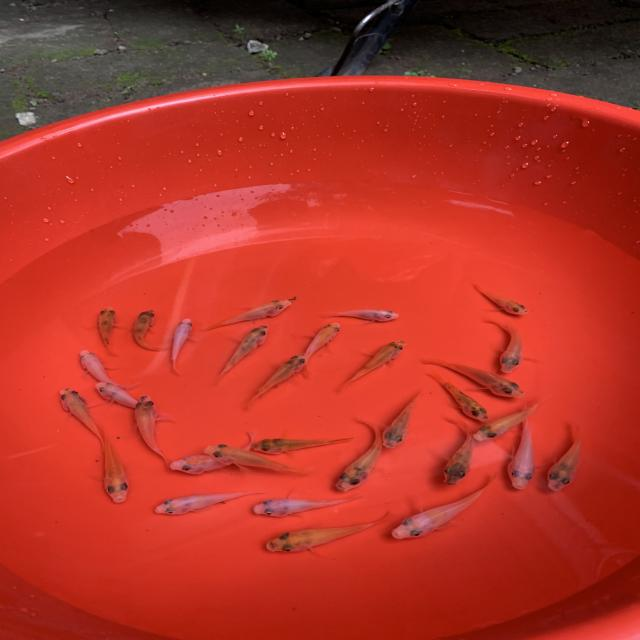nila: (384, 468, 504, 542), (251, 510, 403, 558), (407, 350, 532, 399), (200, 437, 318, 481), (130, 484, 250, 526), (201, 325, 272, 390), (416, 366, 491, 426), (330, 335, 407, 393), (335, 411, 387, 494), (471, 393, 548, 448), (540, 421, 592, 502), (249, 488, 380, 520), (69, 342, 145, 397), (83, 375, 174, 419), (49, 382, 109, 448), (93, 418, 136, 509), (199, 296, 296, 335), (243, 351, 309, 408), (130, 392, 182, 464), (437, 414, 482, 496), (479, 313, 537, 375), (380, 384, 427, 454), (248, 430, 377, 455), (290, 321, 341, 381), (508, 398, 537, 498), (158, 447, 251, 477), (468, 278, 535, 319), (318, 302, 404, 326), (127, 304, 168, 354), (90, 302, 123, 364), (162, 316, 195, 376)
